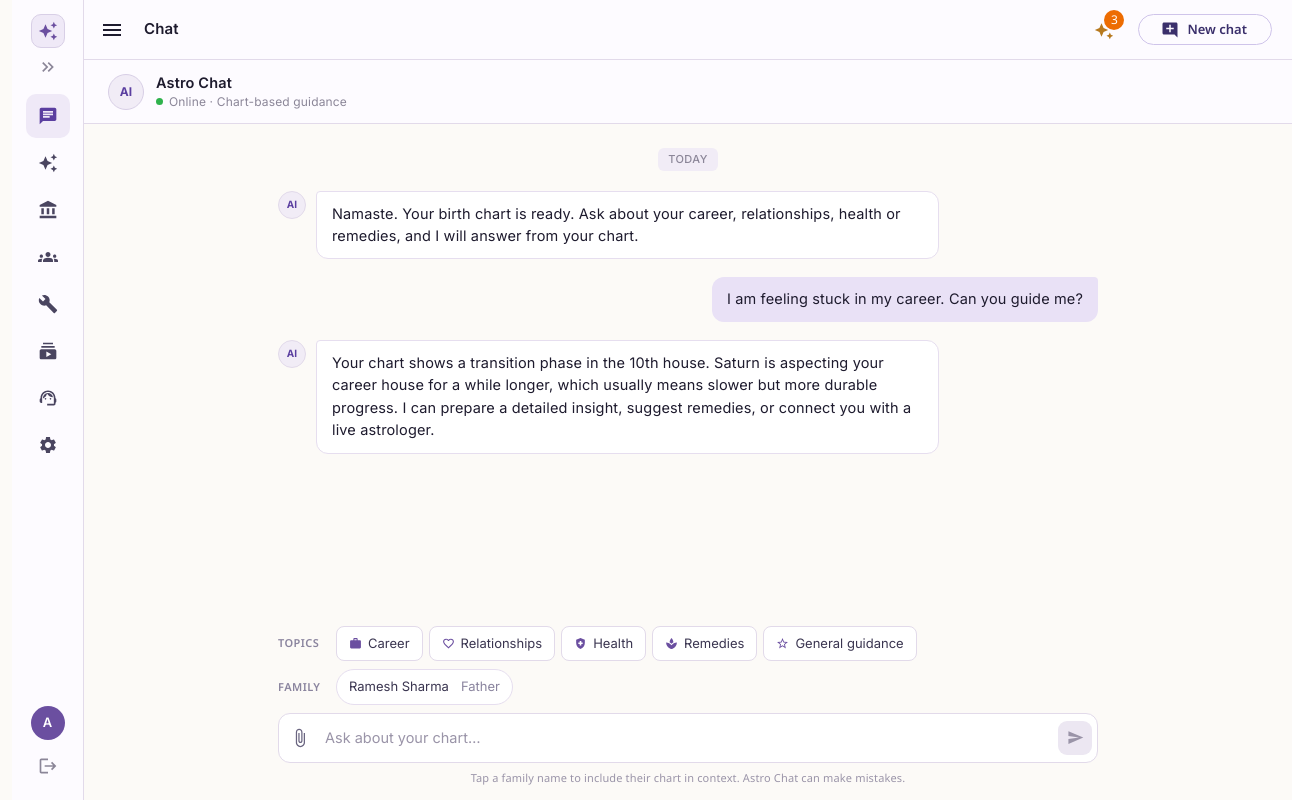
side panel lists recent chats and every astrologer
The width and height of the screenshot is (1292, 800).
Click the button named "open navigation" at [112, 30], box [92, 10, 132, 50]
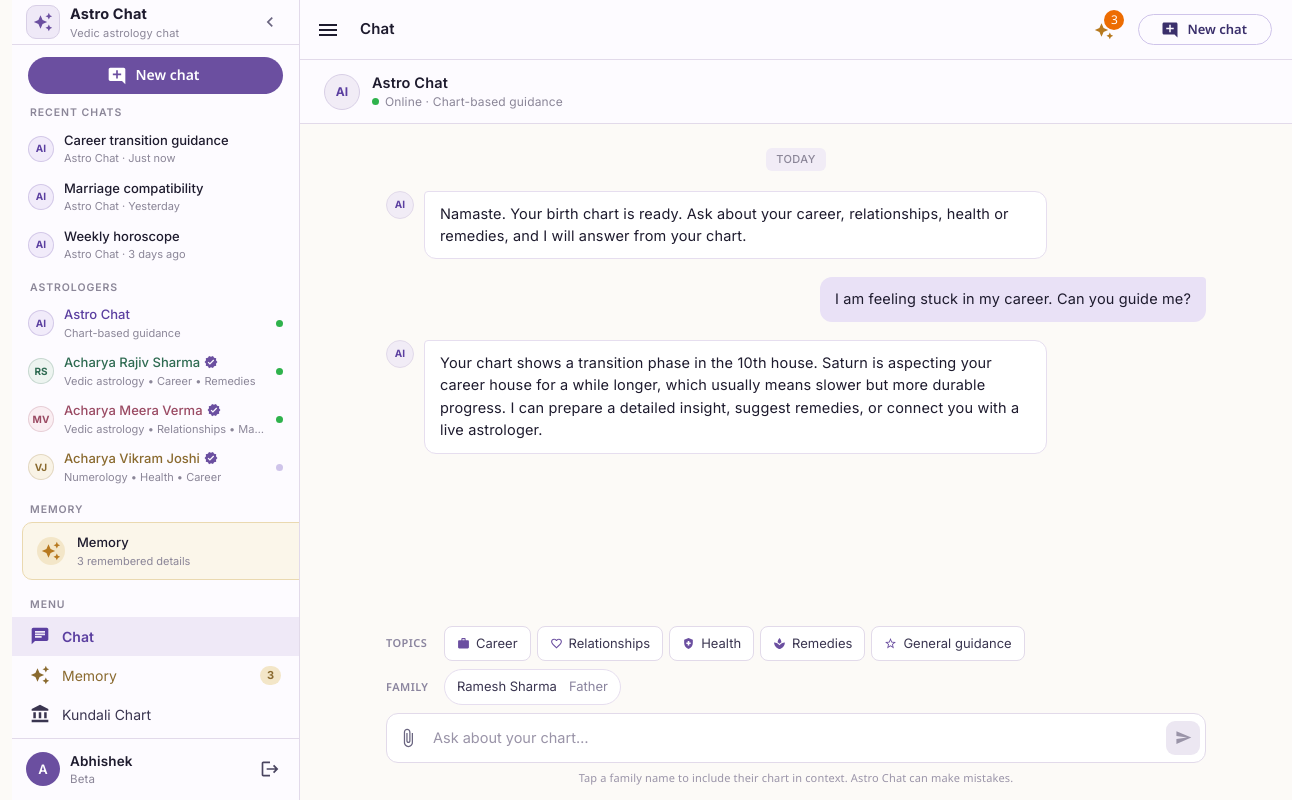
Expected: the text "Career transition guidance" is shown, [64, 131, 229, 150]
Expected: the text "Marriage compatibility" is shown, [64, 179, 204, 198]
Expected: the text "Weekly horoscope" is shown, [64, 227, 186, 246]
